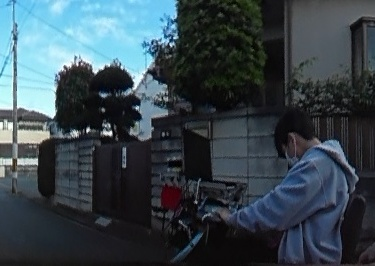person: (257, 105, 354, 266)
